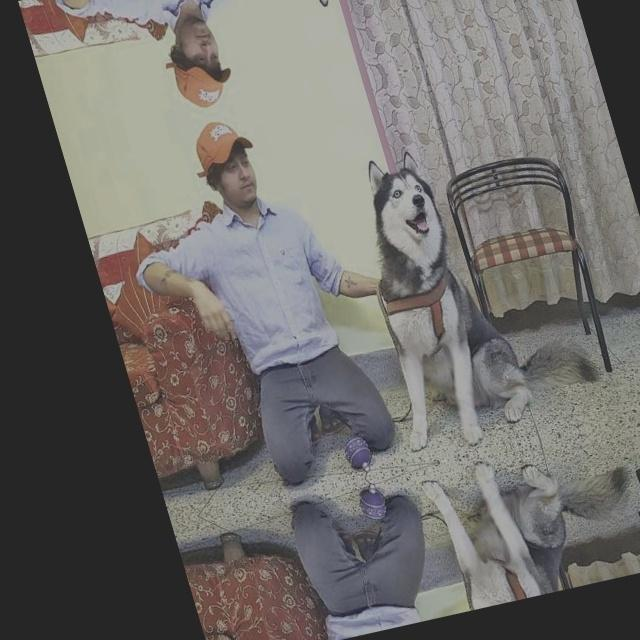dog: (334, 131, 546, 453), (427, 450, 591, 612), (270, 0, 418, 22)
person: (118, 96, 408, 492), (232, 486, 456, 640), (74, 0, 302, 130)
